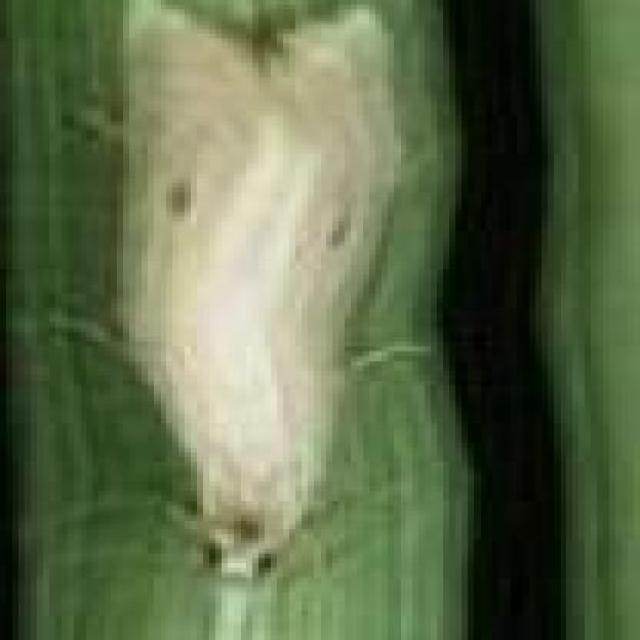stem-borer: (16, 0, 444, 640)
